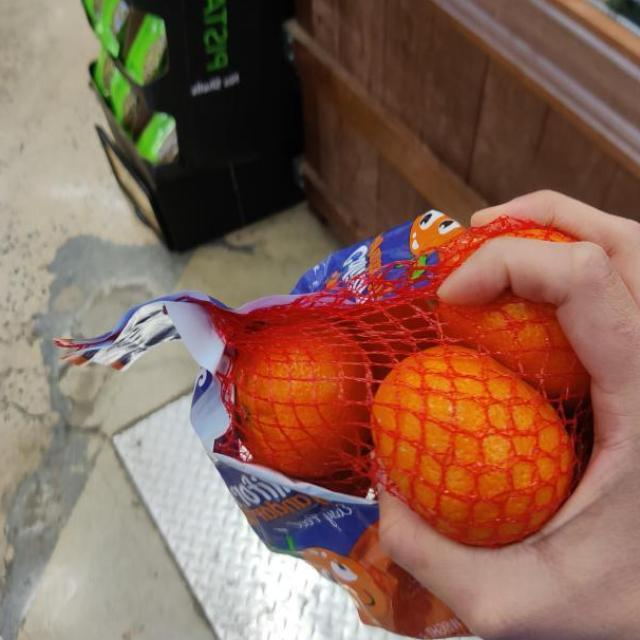Oranges: (209, 207, 577, 639)
